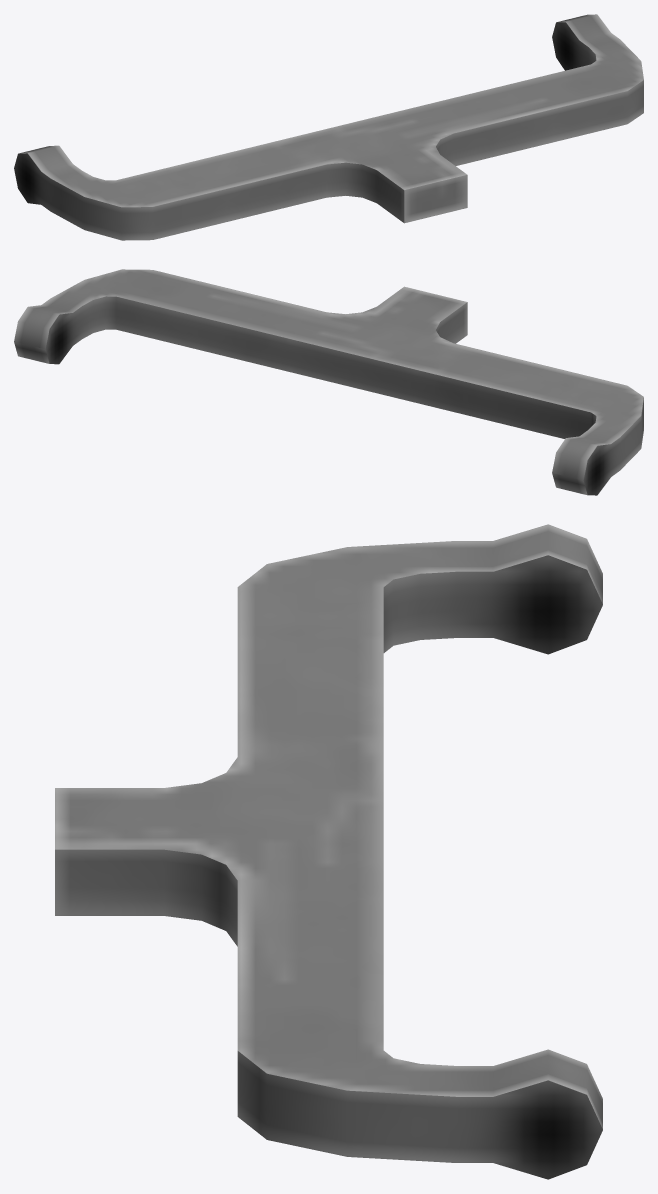
Rendered from 3mv solar base.obj.
3 renders of one model, top to bottom at view 1: azimuth 30°, elevation 25°; view 2: azimuth 150°, elevation 25°; view 3: azimuth 270°, elevation 25°, orthographic. The views are drawn at different scales.
Visible parts, largest first — view 1: base; view 2: base; view 3: base.
Boxes of the visible parts, <box> form: base: <box>14,14,643,240</box>; base: <box>14,269,643,495</box>; base: <box>55,524,602,1179</box>.
Bounding box in the file's own units: 0.45 × 0.0375 × 0.1875.
Materials: 1 (1 with a texture image).
